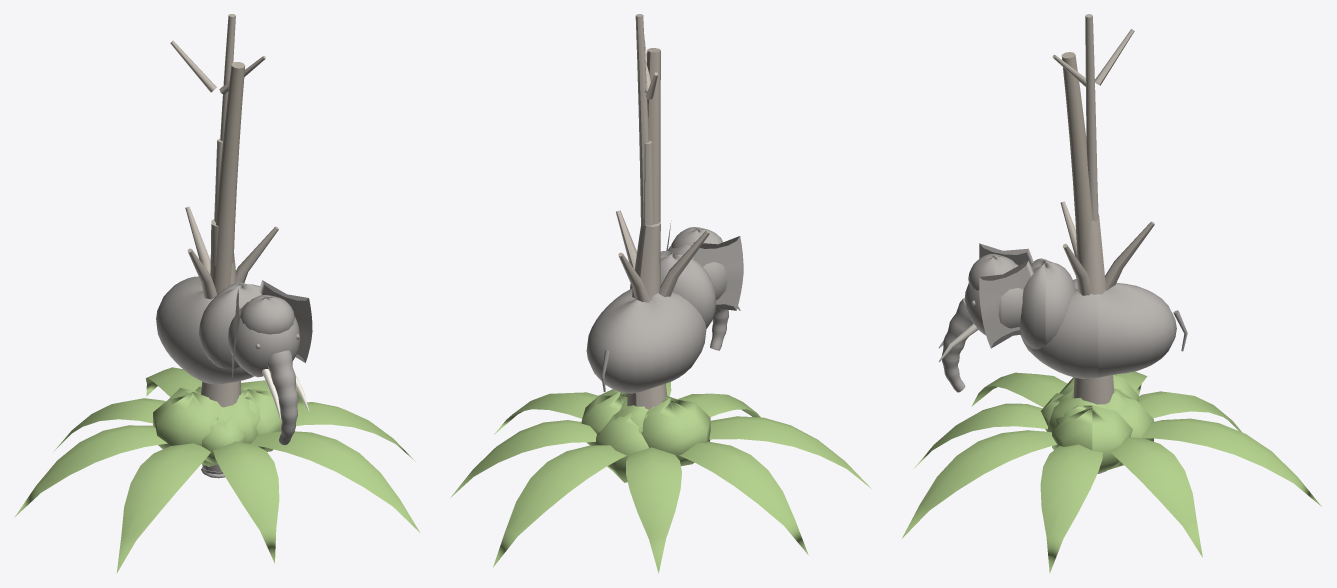
File: scenery_pack.glb
3 views of the same model, side by side, from view 1: azimuth 30°, elevation 25°; view 2: azimuth 150°, elevation 25°; view 3: azimuth 270°, elevation 25° (orthographic).
Parts seen in each view (by area): view 1: PalmCrown, ElephantBody, TreeCanopy, PalmTrunk, TreeTrunk, RubberTrunk; view 2: PalmCrown, ElephantBody, TreeCanopy, TreeTrunk, RubberTrunk, PalmTrunk, PineTrunk; view 3: PalmCrown, ElephantBody, TreeCanopy, TreeTrunk, PalmTrunk, RubberTrunk.
Boxes of the visible parts, x1,y1,x2,y2 form: PalmCrown: (14,367,419,573); ElephantBody: (156,276,312,445); TreeCanopy: (153,386,281,466); PalmTrunk: (212,62,245,294); TreeTrunk: (185,206,278,407); RubberTrunk: (170,14,265,141); PalmCrown: (450,382,871,573); ElephantBody: (586,223,743,393); TreeCanopy: (581,389,710,482); TreeTrunk: (616,210,709,409); RubberTrunk: (635,14,658,227); PalmTrunk: (646,48,660,292); PineTrunk: (644,141,654,225); PalmCrown: (902,371,1321,573); ElephantBody: (942,243,1187,392); TreeCanopy: (1040,375,1153,472); TreeTrunk: (1060,201,1154,404); PalmTrunk: (1061,52,1092,260); RubberTrunk: (1052,14,1134,222).
Size of the model in its own units: 9.12 by 11.51 by 9.21.
